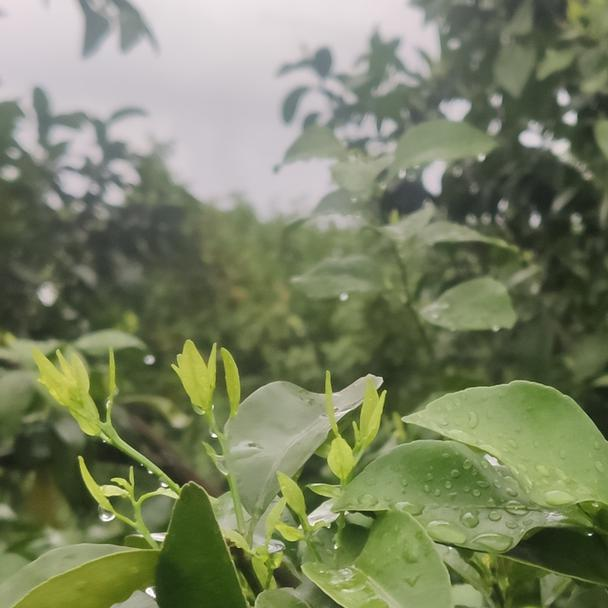shoot: (32, 350, 124, 445), (321, 374, 388, 489), (171, 347, 242, 444), (81, 465, 174, 530)
